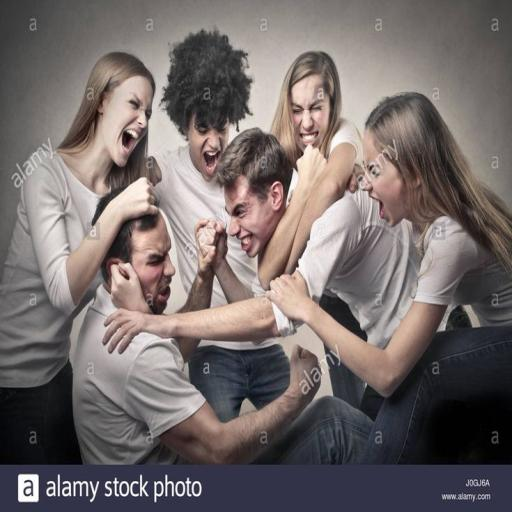fight: (27, 47, 491, 402)
